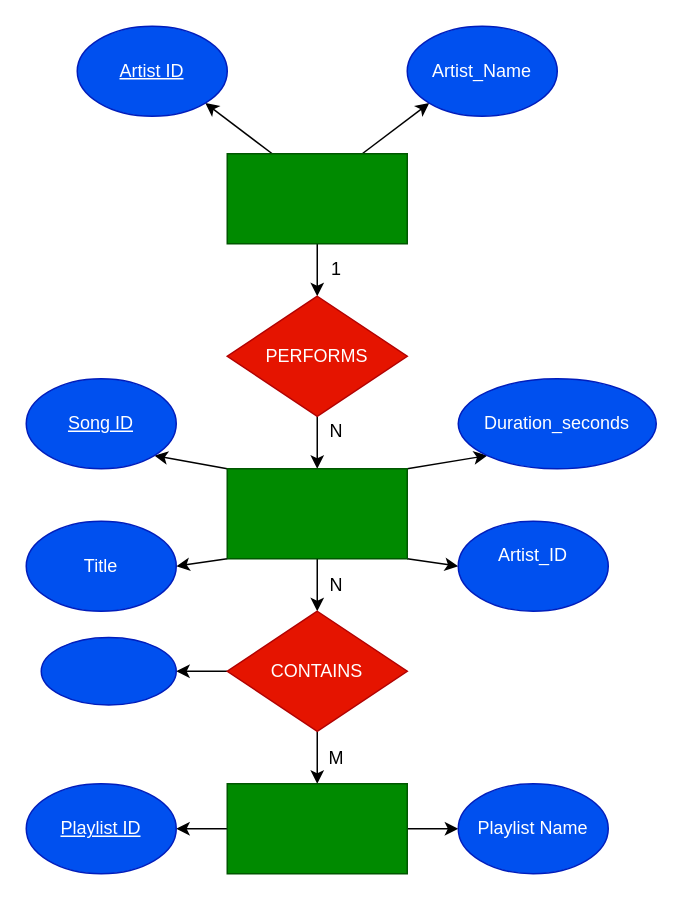
Image size: 683x900. Some labels were removed from this diagram. Each missing label, with the centre of its shape:
ARTIST: (x=316, y=198)
PLAYLIST: (x=316, y=828)
Position: (x=108, y=670)
SONG: (x=316, y=513)
